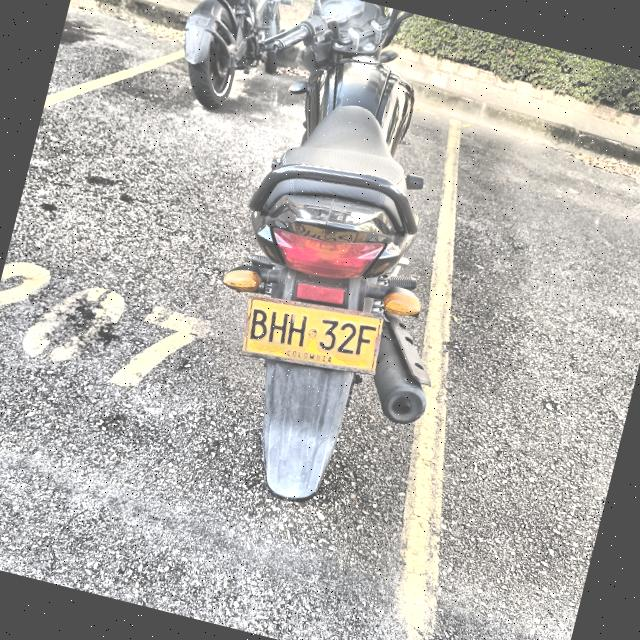2: (335, 320, 357, 355)
3: (316, 317, 340, 352)
B: (248, 307, 269, 342)
F: (354, 323, 377, 358)
H: (285, 312, 308, 347), (267, 310, 289, 345)
